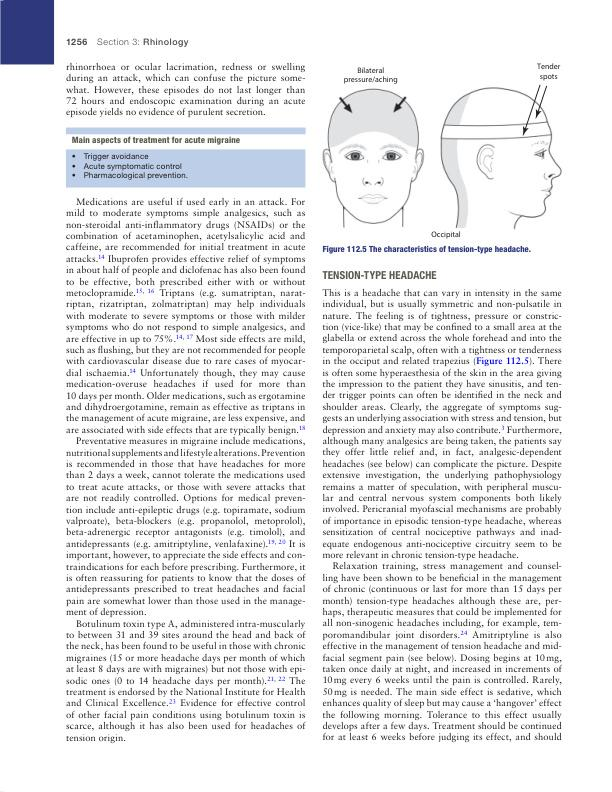caption: (321, 244, 531, 256), (71, 135, 241, 147)
header: (96, 37, 189, 48)
image: (315, 54, 570, 241)
list: (70, 152, 189, 182)
section-heading: (321, 269, 439, 281)
text: (64, 196, 307, 745), (320, 287, 564, 745), (65, 61, 306, 119)
